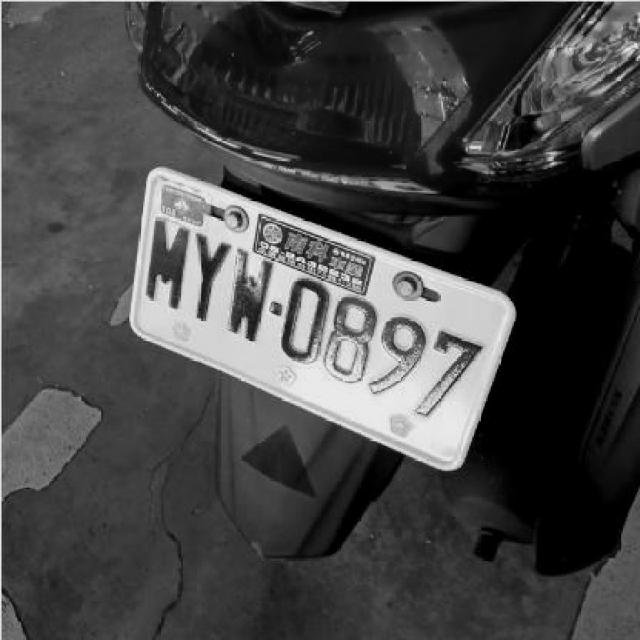-: (264, 294, 282, 317)
0: (272, 273, 333, 367)
7: (406, 323, 491, 420)
8: (318, 289, 381, 385)
9: (360, 306, 433, 404)
M: (143, 218, 189, 310)
W: (217, 244, 277, 344)
Y: (188, 229, 233, 324)
